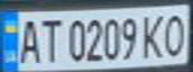0: (63, 15, 87, 63), (103, 15, 124, 62)
2: (84, 15, 106, 63)
9: (118, 14, 142, 61)
A: (15, 16, 42, 64)
K: (139, 11, 169, 60)
O: (160, 9, 190, 57)
T: (36, 15, 63, 64)
